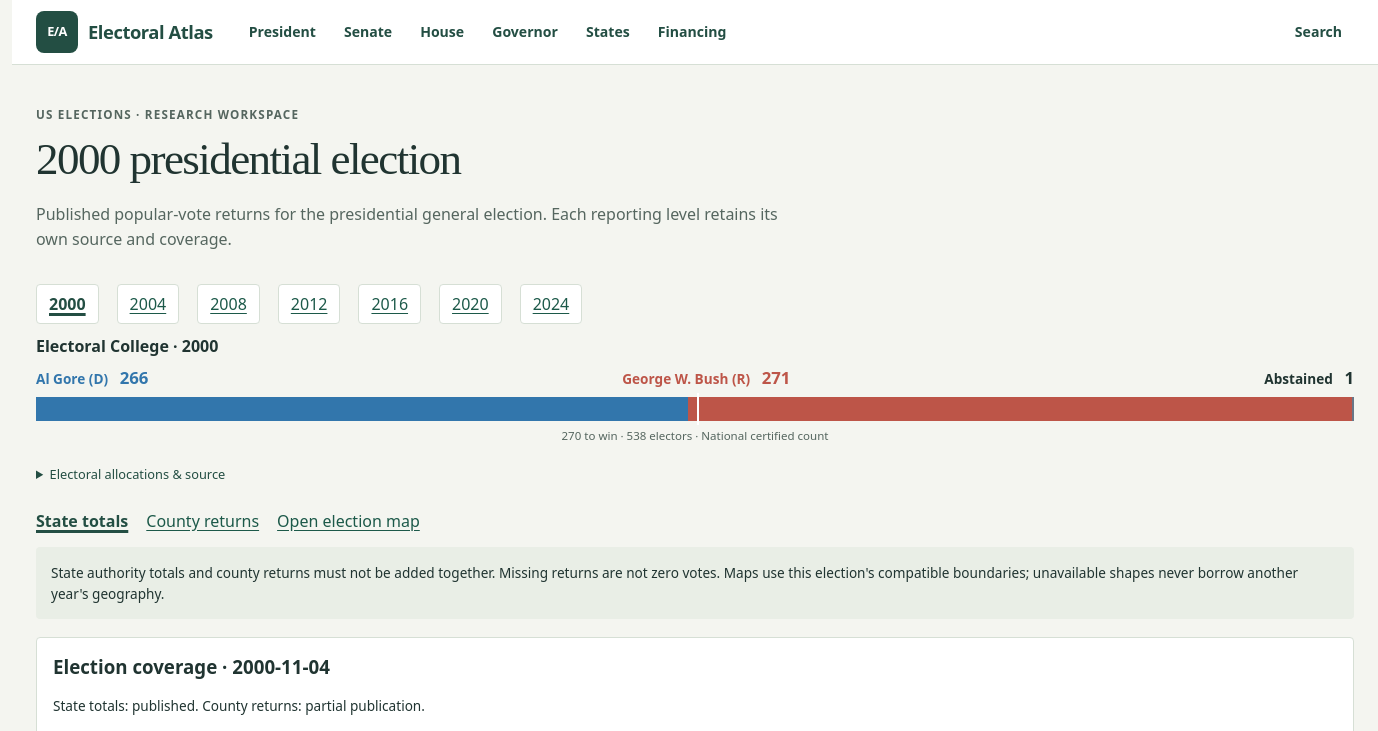
Test case: presidential coverage, sources and missing data › opens the correct 2000 map and explains unavailable shapes
The width and height of the screenshot is (1378, 731).
Step 1. Click the link "Open election map" → x=348, y=521, box top-left (277, 509), bottom-right (420, 533)
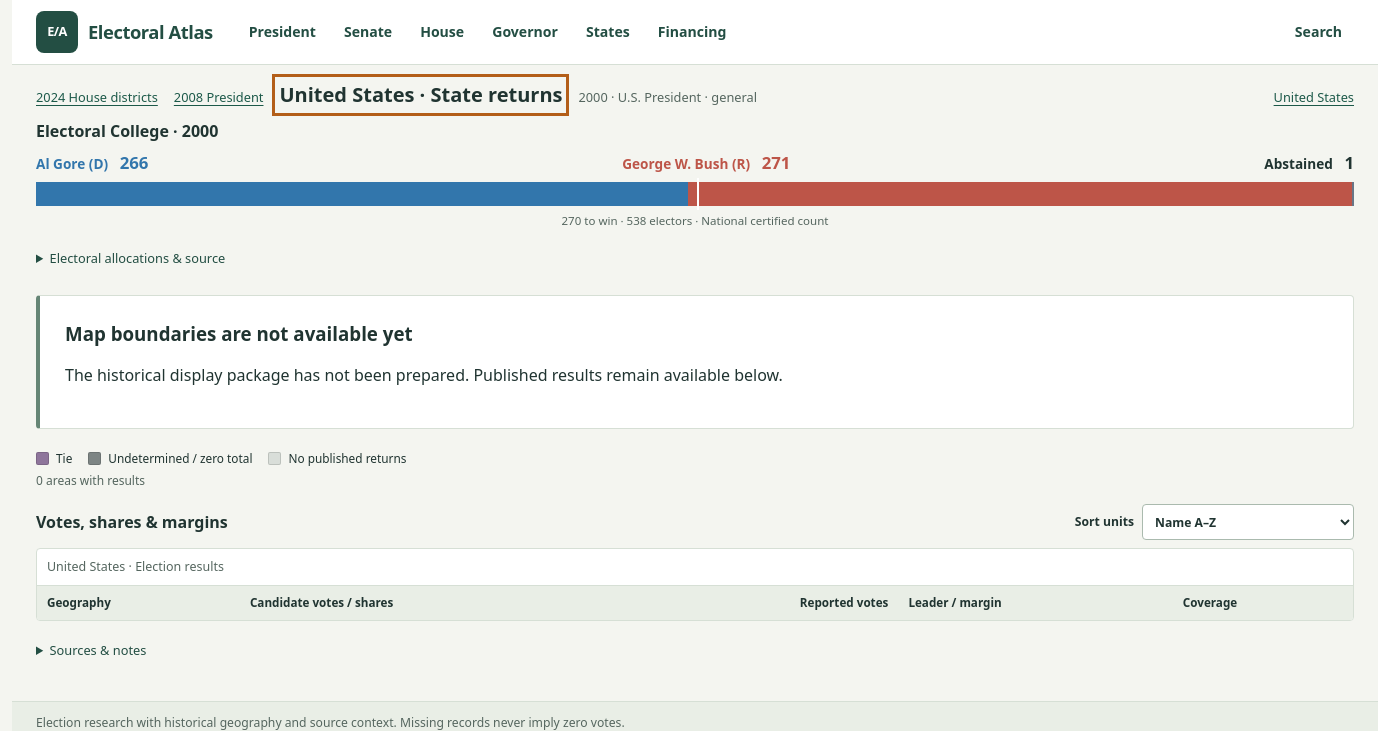
Check: the heading "Map boundaries are not available yet" is shown, box top-left (65, 321), bottom-right (413, 346)
